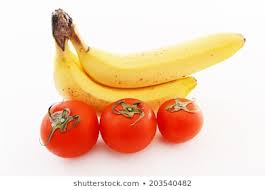banana: (54, 9, 246, 89)
tomato: (38, 99, 99, 159), (101, 98, 158, 154), (160, 99, 205, 143)
